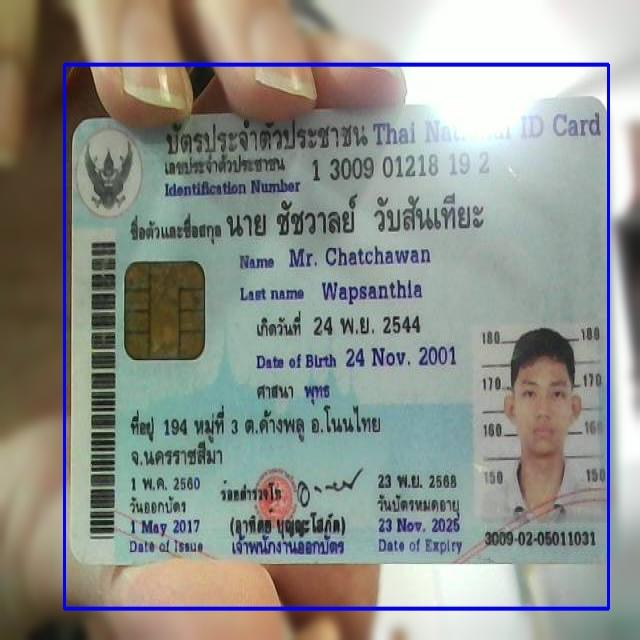Address_th: (125, 402, 386, 471)
Date_of_Birth: (344, 340, 458, 373)
Date_of_Expiry: (376, 514, 464, 538)
Date_of_Issue: (125, 517, 206, 540)
First_Name: (287, 240, 434, 273)
ID_Number: (309, 149, 491, 184)
Image: (472, 325, 599, 521)
Last_Name: (319, 275, 426, 307)
Thai_Name: (223, 191, 497, 241)
